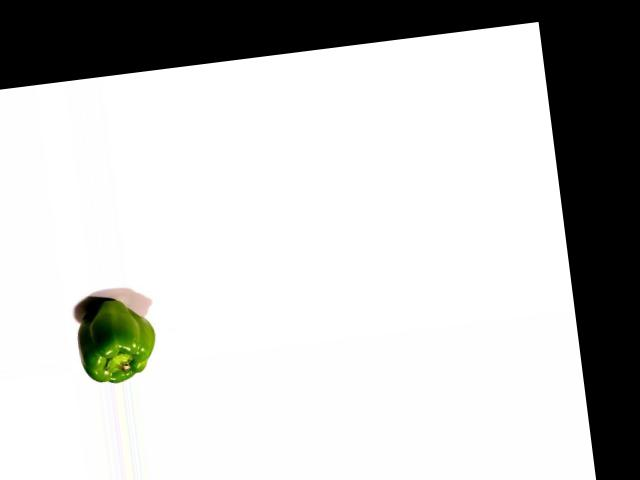bell_pepper: (71, 290, 163, 386)
